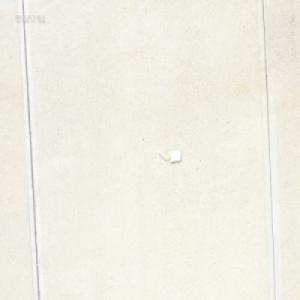LuggageTag: (156, 148, 181, 164)
